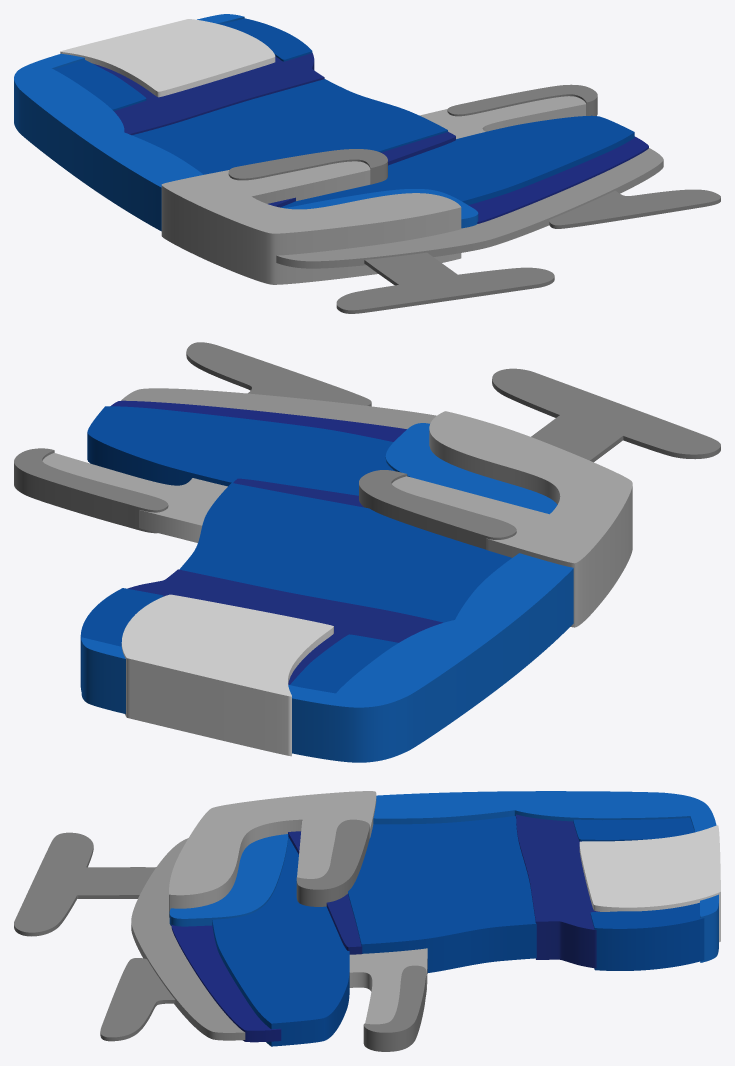
File: emoji_u1f4ba.glb
The picture shows the model from 3 angles, top to bottom: view 1: azimuth 30°, elevation 25°; view 2: azimuth 150°, elevation 25°; view 3: azimuth 270°, elevation 25°; orthographic projection. The views are drawn at different scales.
Parts seen in each view (by area): view 1: emoji_u1f4ba; view 2: emoji_u1f4ba; view 3: emoji_u1f4ba.
Part boxes in pixels (x1,y1,x2,y2): emoji_u1f4ba: [14, 14, 720, 313]; emoji_u1f4ba: [14, 342, 720, 762]; emoji_u1f4ba: [14, 791, 720, 1051].
Size of the model in its own units: 0.0255 by 0.003 by 0.0334.
